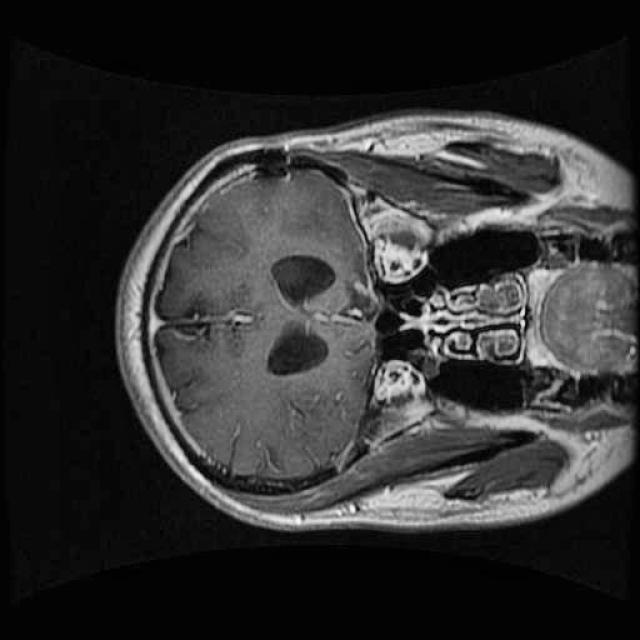Non-Tumor: (328, 274, 386, 332)
